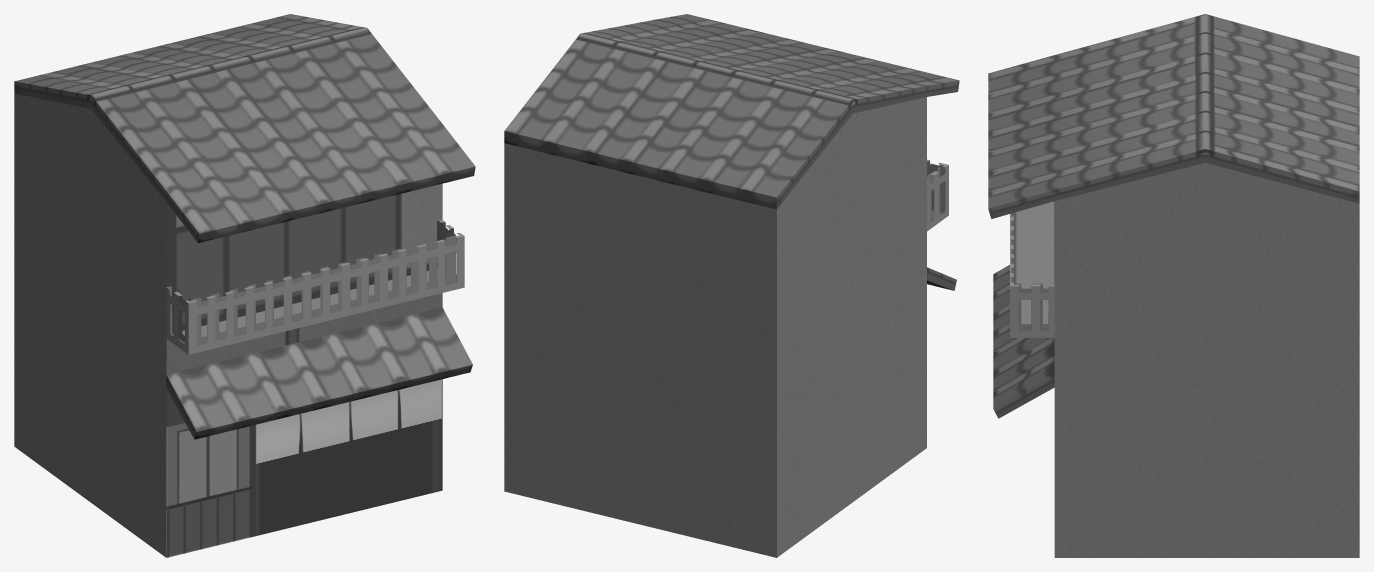
The model's file is Minka_color.FBX.
3 renders of one model, left to right at view 1: azimuth 30°, elevation 25°; view 2: azimuth 150°, elevation 25°; view 3: azimuth 270°, elevation 25°, orthographic.
Visible parts, largest first — view 1: Box003; view 2: Box003; view 3: Box003.
Boxes of the visible parts, x1,y1,x2,y2 form: Box003: (14, 14, 475, 557); Box003: (504, 14, 959, 557); Box003: (988, 14, 1359, 557).
Bounding box in the file's own units: 139 × 196 × 162.
1 material, 1 textured.
